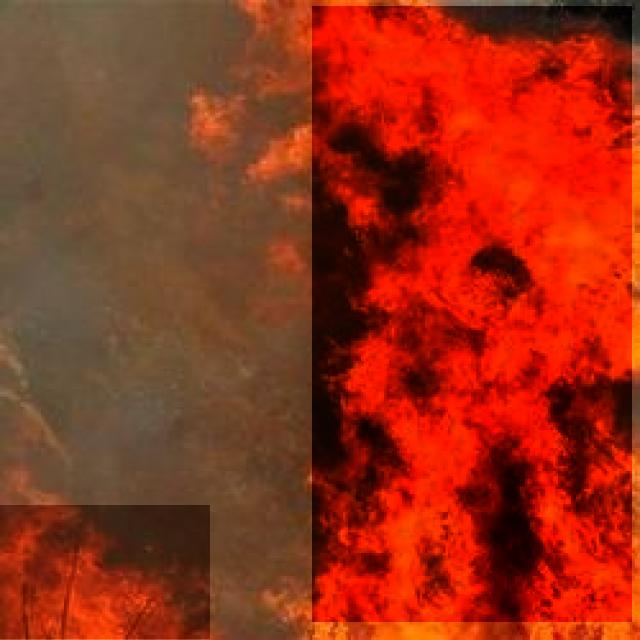Fire: (312, 6, 632, 622), (0, 505, 210, 639)
